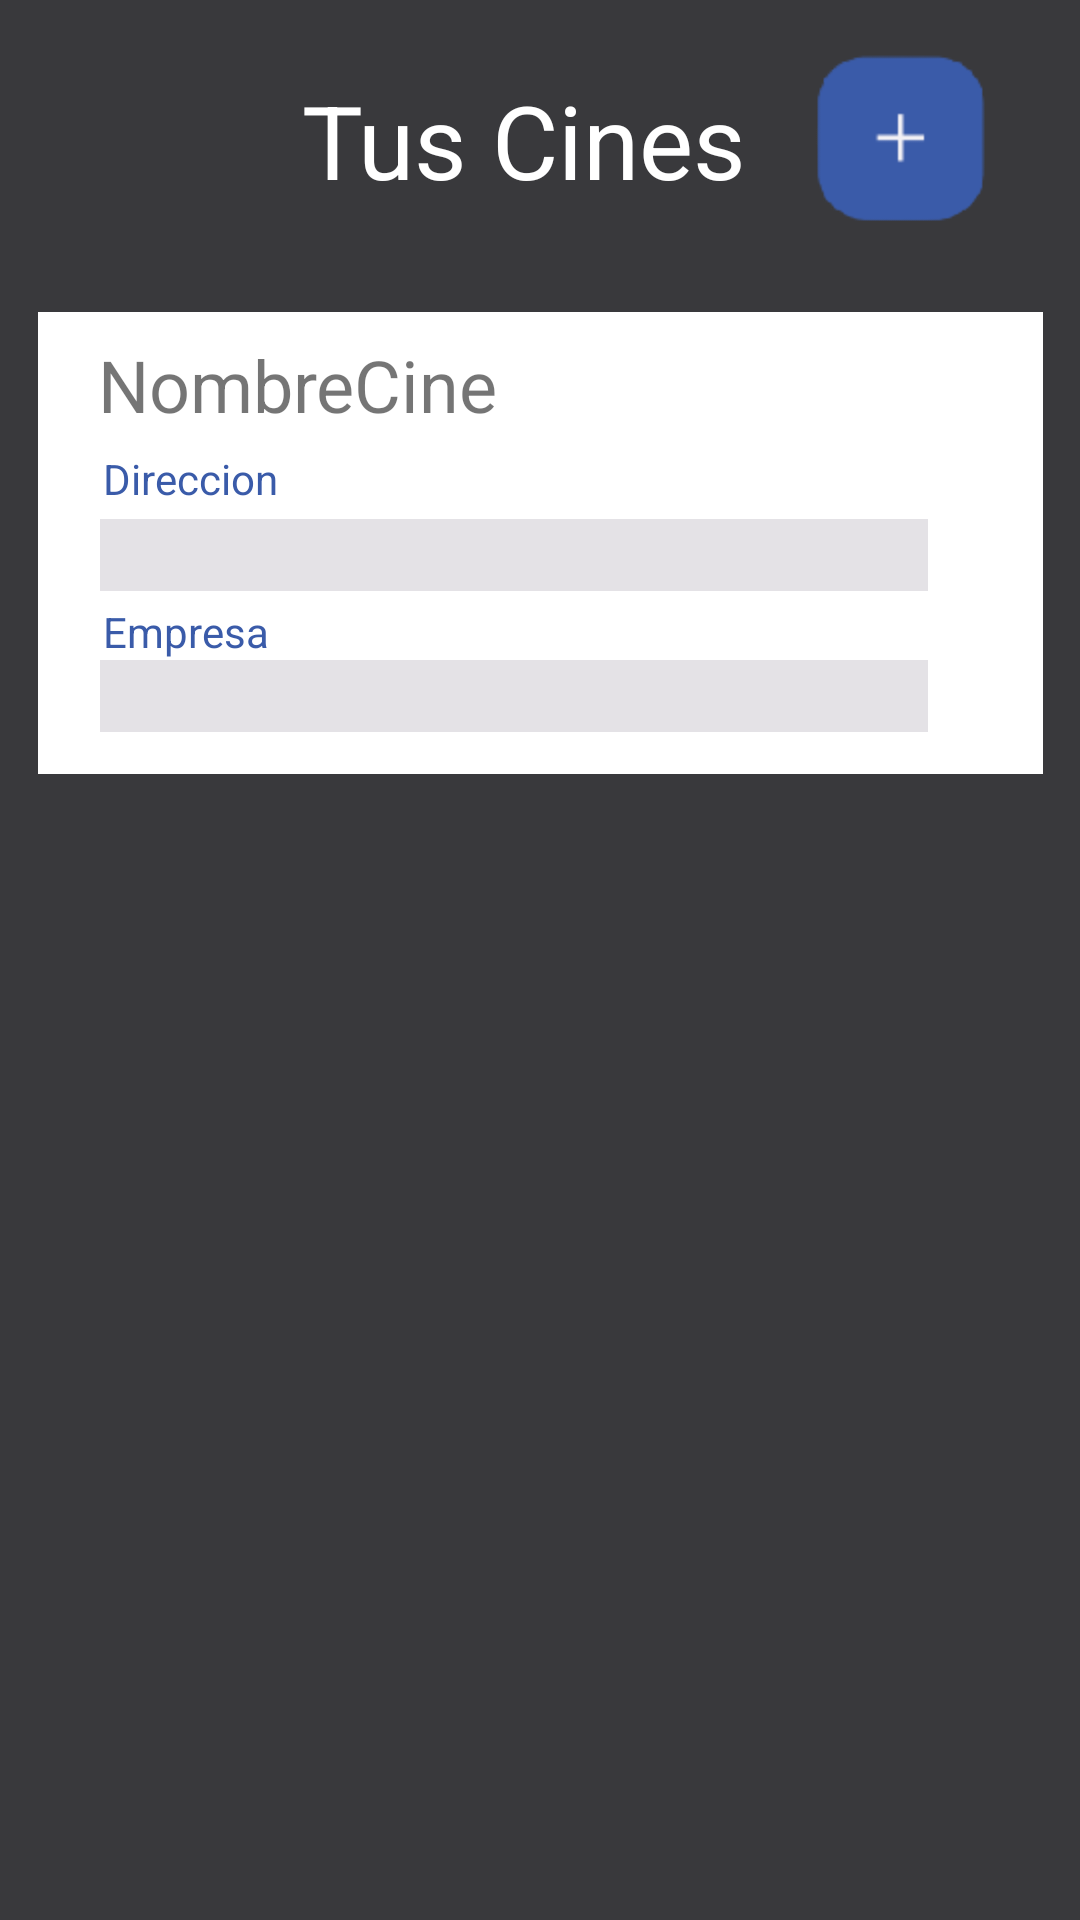

Named icons in this screenshot (1080px x 1920px) and their centers, (x=x, y=y):
addbutton: (x=900, y=138)
